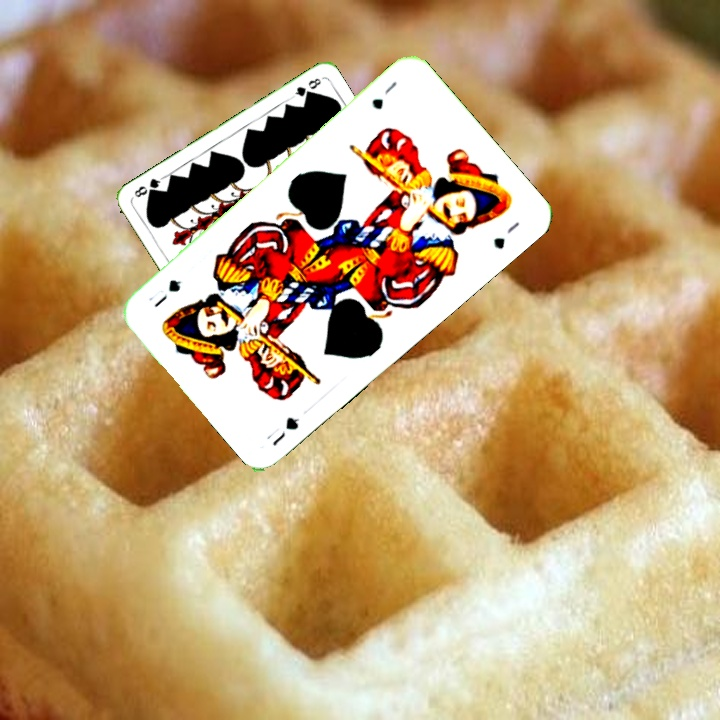G8: (288, 74, 324, 100)
GU: (262, 412, 302, 449), (367, 77, 400, 112)
